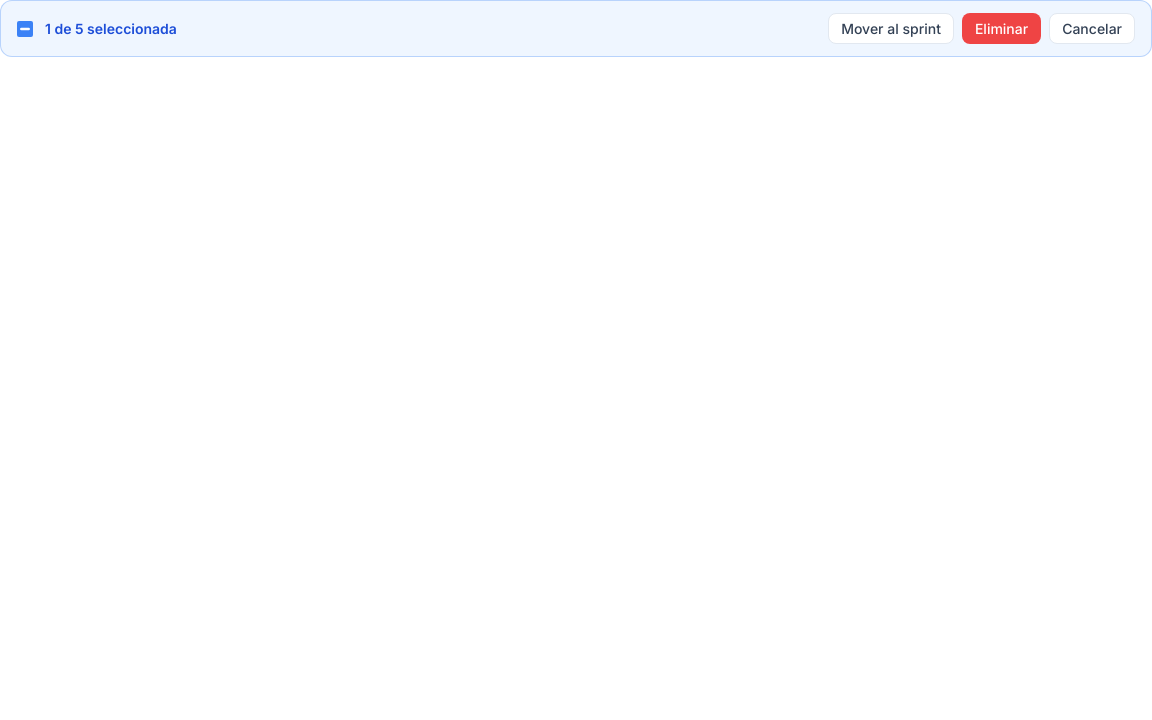
BacklogToolbar › shows confirm dialog when delete is clicked
Click the button "Eliminar" at coordinates (1002, 28), box [962,13,1041,44]
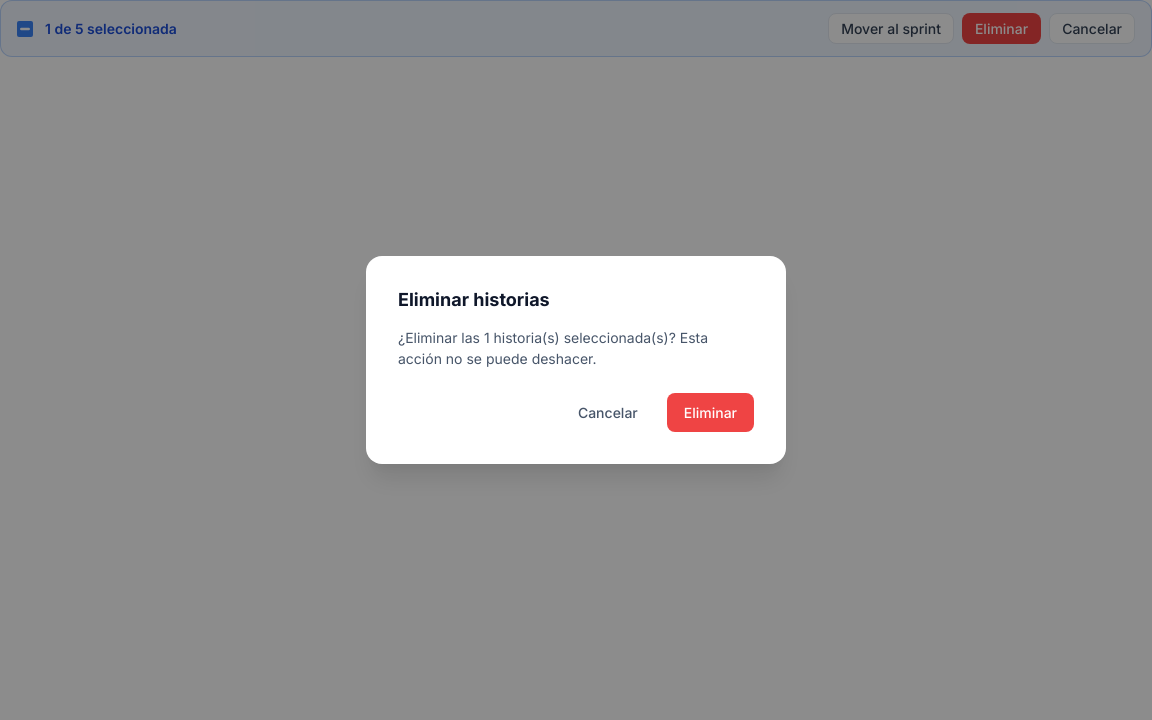
Expected: the dialog is shown
